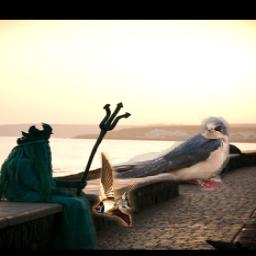Swallow: (111, 115, 231, 190), (93, 153, 147, 227)
